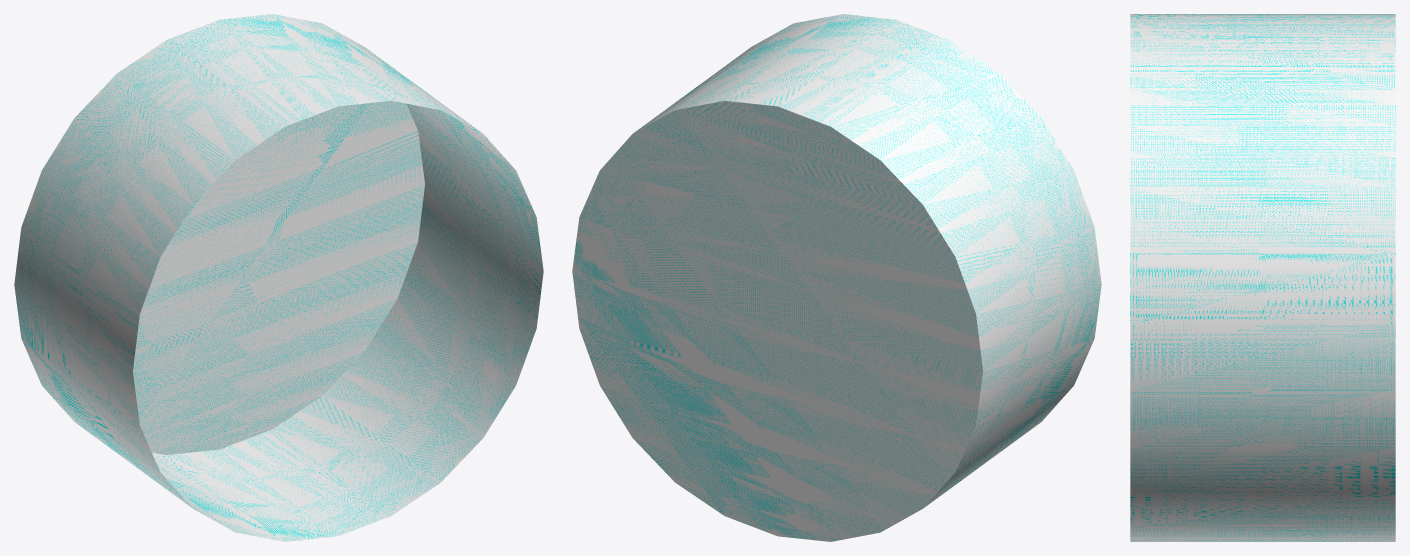
File: original-21.obj
The picture shows the model from 3 angles, left to right: view 1: azimuth 30°, elevation 25°; view 2: azimuth 150°, elevation 25°; view 3: azimuth 270°, elevation 25°; orthographic projection. The views are drawn at different scales.
Visible parts, largest first — view 1: mesh2/mesh2-geometry/material_3/component_4#mesh2-geometry; view 2: mesh2/mesh2-geometry/material_3/component_4#mesh2-geometry; view 3: mesh2/mesh2-geometry/material_3/component_4#mesh2-geometry.
Part boxes in pixels (box(x1,y1,x2,y2)): mesh2/mesh2-geometry/material_3/component_4#mesh2-geometry: box(14, 14, 543, 541); mesh2/mesh2-geometry/material_3/component_4#mesh2-geometry: box(572, 14, 1101, 541); mesh2/mesh2-geometry/material_3/component_4#mesh2-geometry: box(1130, 14, 1395, 541).
Size of the model in its own units: 0.0445 by 0.0445 by 0.0223.
